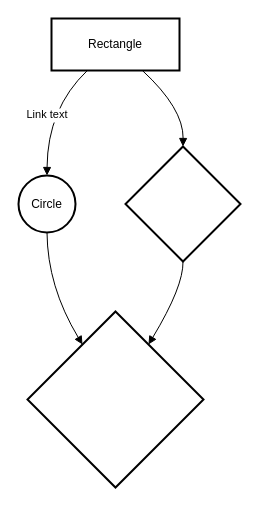
The diagram is 258 pixels wide and 505 high, and some of its shapes have lost their labels. The centre of each missing label's shape, as x and y in pixels:
"Another Rhombus" belongs at point 115,399.
"Rhombus" belongs at point 182,203.
